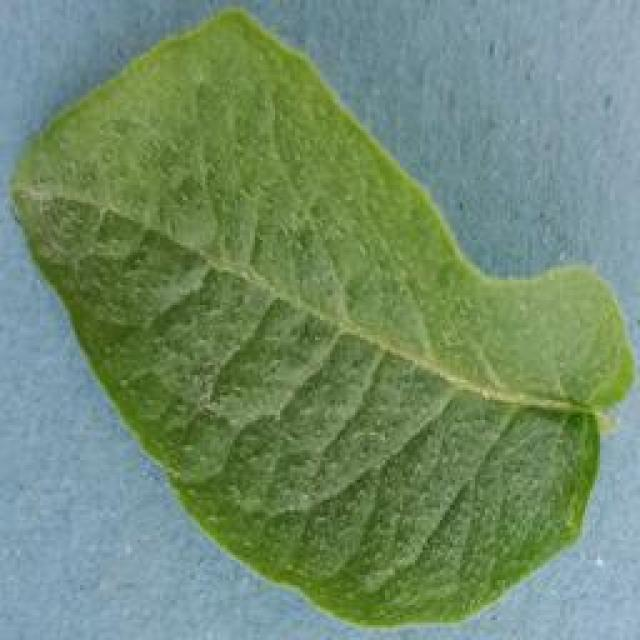Potato_Healthy: (8, 13, 631, 639)
